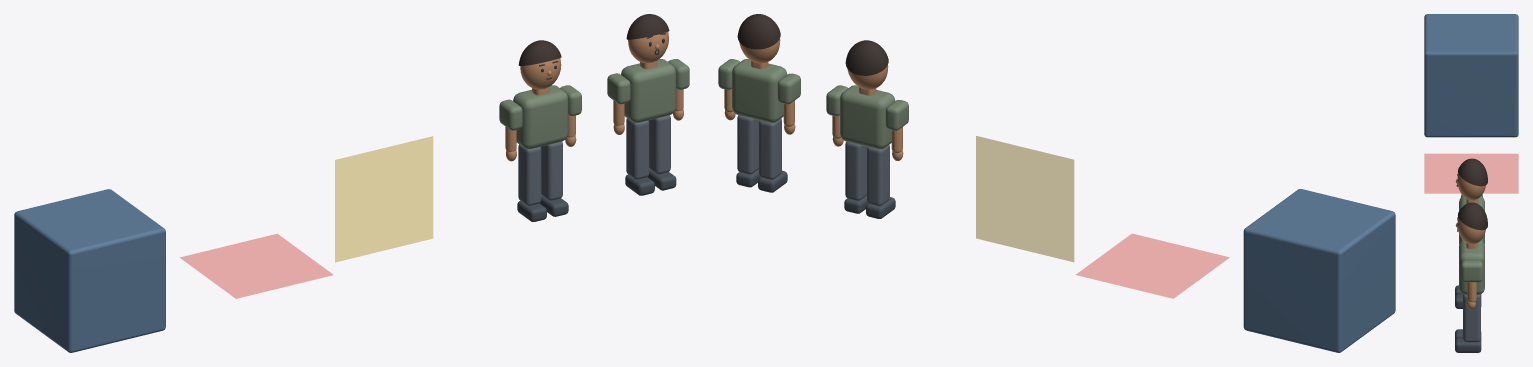
File: mean-kit.glb
The picture shows the model from 3 angles, left to right: view 1: azimuth 30°, elevation 25°; view 2: azimuth 150°, elevation 25°; view 3: azimuth 270°, elevation 25°; orthographic projection. The views are drawn at different scales.
Visible parts, largest first — view 1: UnitCube, TotalPlane, AveragePlane, FriendNeutral_Sweater, FriendSurprised_Sweater, FriendSurprised_Trouser, FriendNeutral_Trouser, FriendSurprised_Trouser.001, FriendNeutral_Trouser.001, FriendNeutral_Head, FriendSurprised_Head, FriendNeutral_Hair (+3 smaller); view 2: UnitCube, TotalPlane, AveragePlane, FriendNeutral_Sweater, FriendSurprised_Sweater, FriendNeutral_Trouser, FriendSurprised_Trouser, FriendNeutral_Trouser.001, FriendSurprised_Trouser.001, FriendSurprised_Hair, FriendNeutral_Hair, FriendSurprised_Sleeve (+1 smaller); view 3: UnitCube, AveragePlane, FriendSurprised_Sweater, FriendSurprised_Trouser.001, FriendNeutral_Hair, FriendSurprised_Hair, FriendSurprised_Sleeve.001, FriendNeutral_Head, FriendSurprised_Head, FriendSurprised_Shoe.001, FriendSurprised_Forearm.001, FriendNeutral_Sweater (+1 smaller).
Boxes of the visible parts, <box> form: UnitCube: <box>14,189,165,352</box>; TotalPlane: <box>335,136,433,262</box>; AveragePlane: <box>180,234,333,298</box>; FriendNeutral_Sweater: <box>513,85,568,149</box>; FriendSurprised_Sweater: <box>621,59,676,122</box>; FriendSurprised_Trouser: <box>626,118,649,179</box>; FriendNeutral_Trouser: <box>518,144,541,205</box>; FriendSurprised_Trouser.001: <box>648,115,670,174</box>; FriendNeutral_Trouser.001: <box>541,141,562,200</box>; FriendNeutral_Head: <box>520,58,561,89</box>; FriendSurprised_Head: <box>628,32,668,63</box>; FriendNeutral_Hair: <box>518,40,561,65</box>; UnitCube: <box>1243,189,1395,352</box>; TotalPlane: <box>976,136,1074,262</box>; AveragePlane: <box>1076,234,1229,298</box>; FriendNeutral_Sweater: <box>840,85,895,149</box>; FriendSurprised_Sweater: <box>732,59,787,122</box>; FriendNeutral_Trouser: <box>867,144,889,206</box>; FriendSurprised_Trouser: <box>759,118,781,179</box>; FriendNeutral_Trouser.001: <box>845,142,867,200</box>; FriendSurprised_Trouser.001: <box>737,115,759,174</box>; FriendSurprised_Hair: <box>737,14,780,49</box>; FriendNeutral_Hair: <box>845,40,888,75</box>; FriendSurprised_Sleeve: <box>777,73,800,104</box>; UnitCube: <box>1424,14,1518,137</box>; AveragePlane: <box>1424,153,1518,193</box>; FriendSurprised_Sweater: <box>1459,240,1484,294</box>; FriendSurprised_Trouser.001: <box>1463,294,1480,342</box>; FriendNeutral_Hair: <box>1458,158,1487,186</box>; FriendSurprised_Hair: <box>1458,202,1487,230</box>; FriendSurprised_Sleeve.001: <box>1461,260,1482,282</box>; FriendNeutral_Head: <box>1457,174,1485,200</box>; FriendSurprised_Head: <box>1457,218,1485,244</box>; FriendSurprised_Shoe.001: <box>1455,338,1481,352</box>; FriendSurprised_Forearm.001: <box>1467,282,1476,302</box>; FriendNeutral_Sweater: <box>1459,196,1484,244</box>.
Bounding box in the file's own units: 6.57 × 1.66 × 1.
